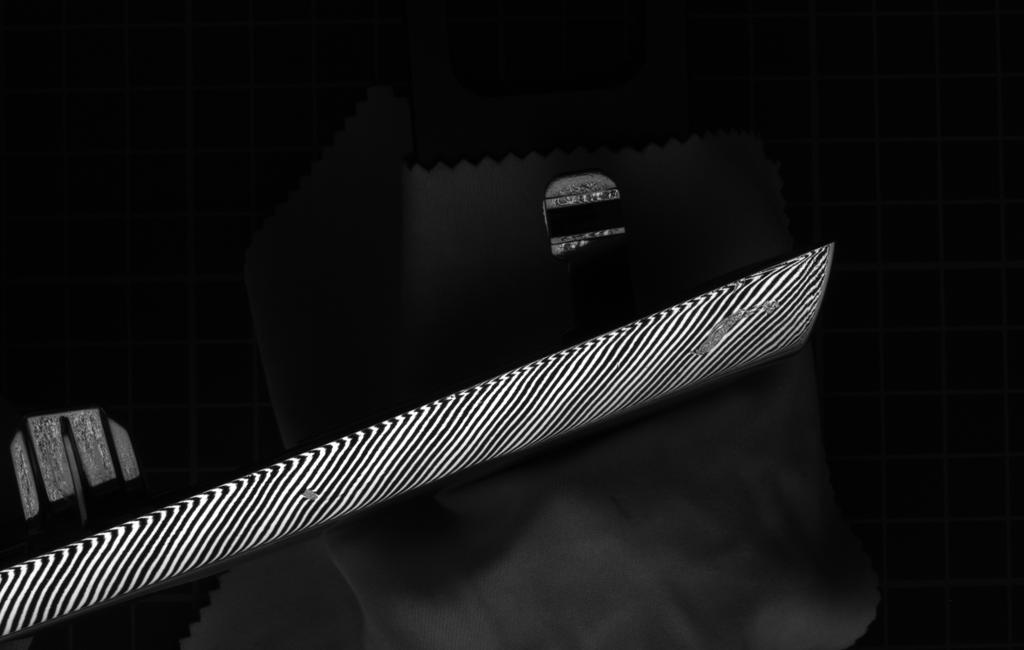Pierced: (296, 485, 328, 504)
Scratch: (693, 292, 791, 364)
